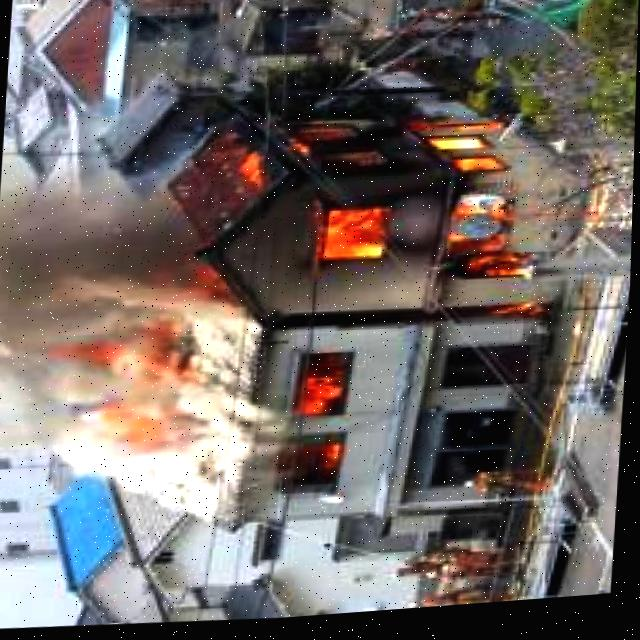Fire: (271, 96, 564, 343), (293, 357, 353, 422)
Smoke: (0, 170, 268, 540)
